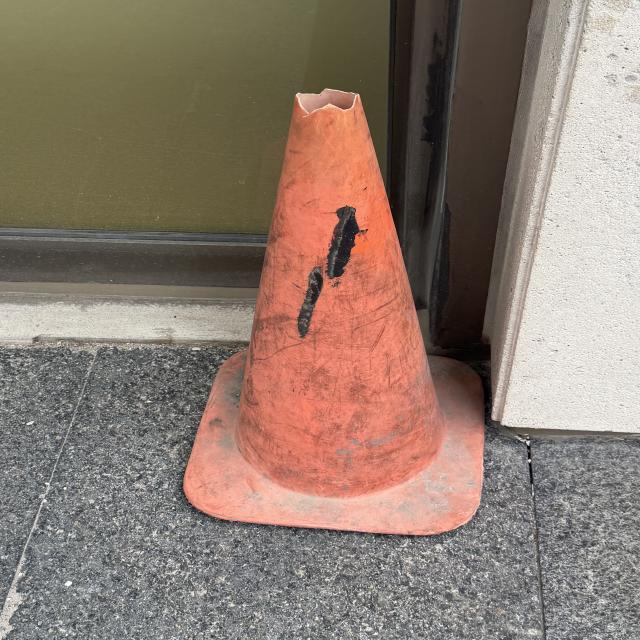Traffic Cone: (182, 88, 488, 538)
